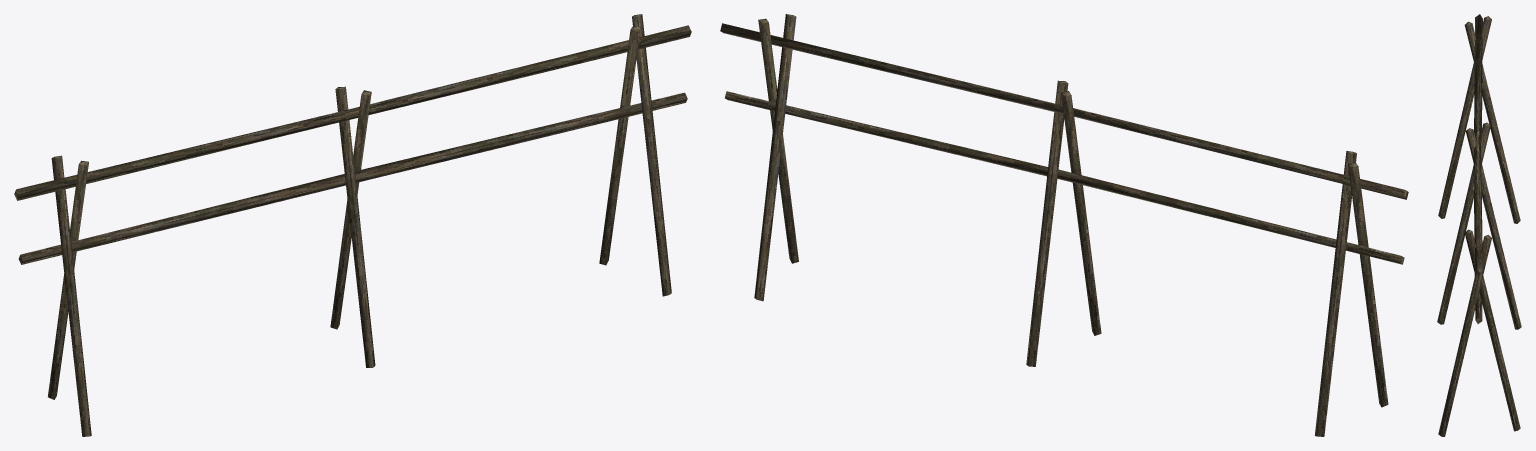
Rendered from thm_dant_fence_8m_l3.fbx.
The picture shows the model from 3 angles, left to right: view 1: azimuth 30°, elevation 25°; view 2: azimuth 150°, elevation 25°; view 3: azimuth 270°, elevation 25°; orthographic projection. The views are drawn at different scales.
Visible parts, largest first — view 1: mesh_node; view 2: mesh_node; view 3: mesh_node.
Part boxes in pixels (x1,y1,x2,y2): mesh_node: (14, 14, 691, 436); mesh_node: (720, 14, 1408, 436); mesh_node: (1437, 14, 1521, 436).
Size of the model in its own units: 7.96 by 2.95 by 1.12.
